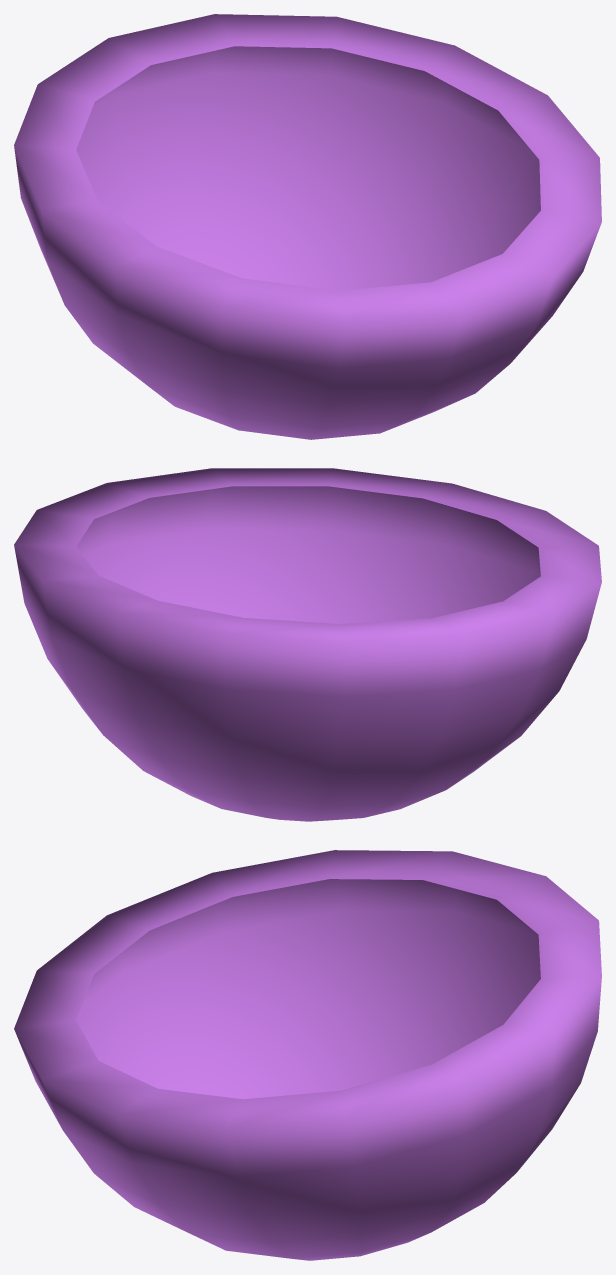
The model's file is Parpado inf izq.fbx.
The picture shows the model from 3 angles, top to bottom: view 1: azimuth 30°, elevation 25°; view 2: azimuth 150°, elevation 25°; view 3: azimuth 270°, elevation 25°; orthographic projection.
Parts seen in each view (by area): view 1: Parpado inf izq; view 2: Parpado inf izq; view 3: Parpado inf izq.
Boxes of the visible parts, x1=… form: Parpado inf izq: x1=14, y1=14, x2=601, y2=439; Parpado inf izq: x1=14, y1=468, x2=601, y2=821; Parpado inf izq: x1=14, y1=850, x2=601, y2=1260.
Bounding box in the file's own units: 7.83 × 4.09 × 7.74.
